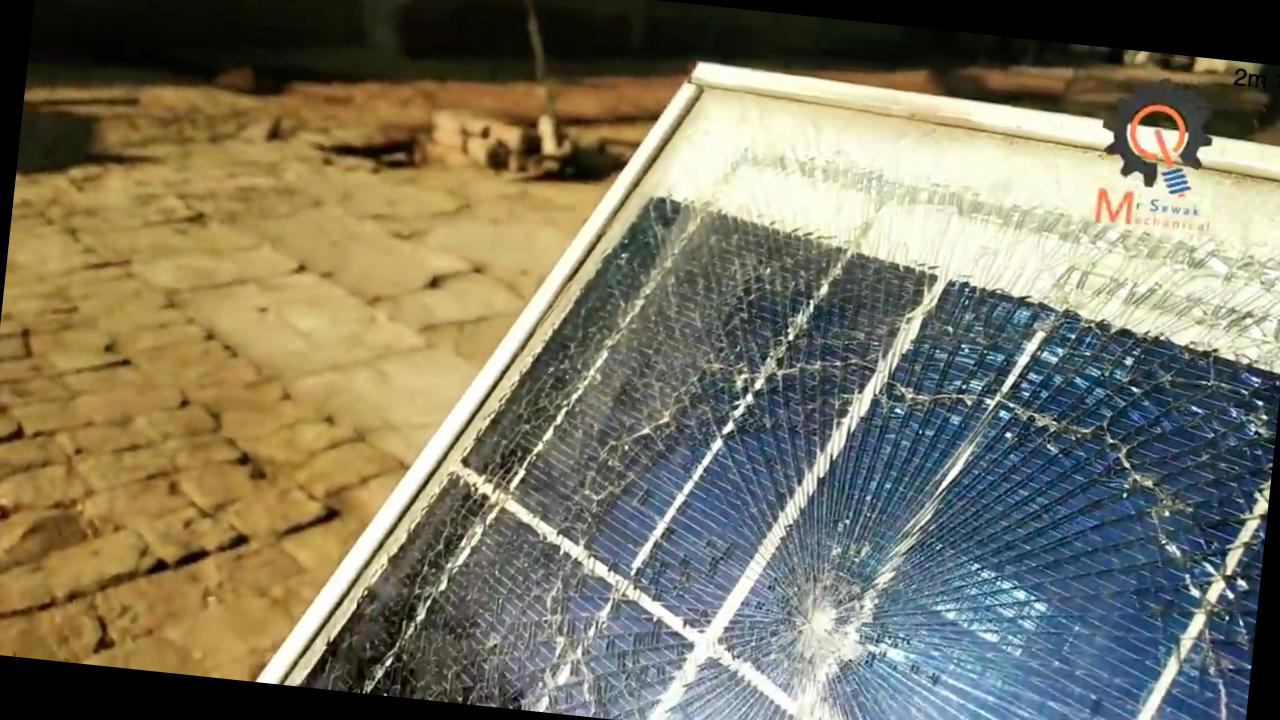Crack: (562, 305, 1202, 719)
